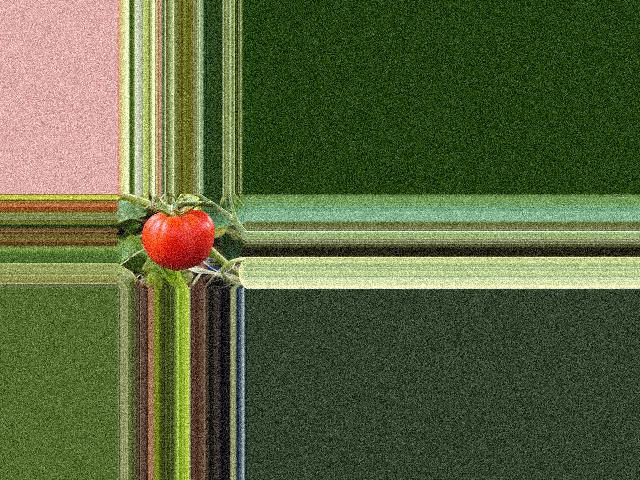tomato: (142, 210, 215, 270)
